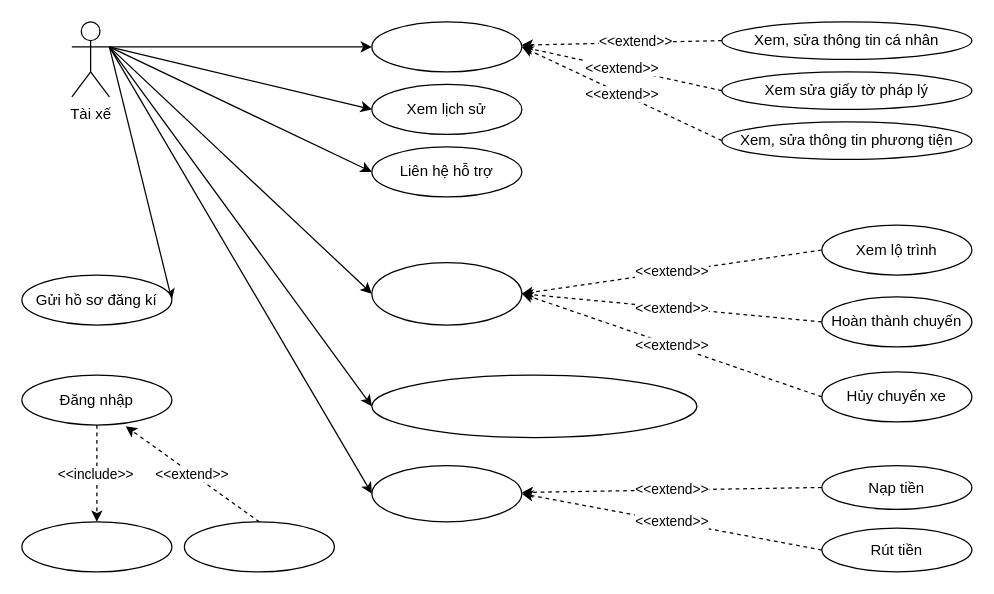
Image size: 994x594. Some labels were removed from this diagram. Here are the shapes that lost their labels. From the top down, the centre of each, then its label:
the point at 446,46: Quản lý thông tin
the point at 446,293: Quản lý chuyến xe
the point at 534,406: Xem danh sách chuyến được phân công
the point at 446,493: Nạp, rút tiền
the point at 96,546: Đăng ký
the point at 258,546: Đăng xuất
